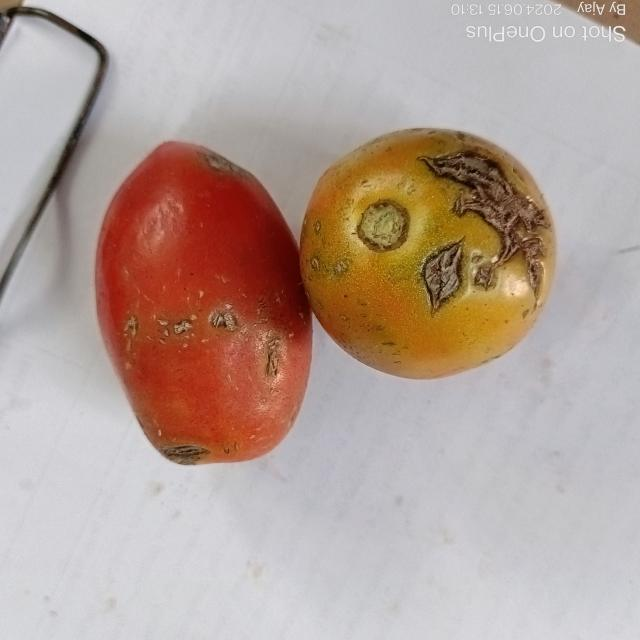Bacterial_Spot: (418, 140, 548, 310), (258, 331, 291, 387), (154, 441, 215, 468), (206, 308, 242, 336), (160, 316, 198, 342), (118, 318, 138, 340)
